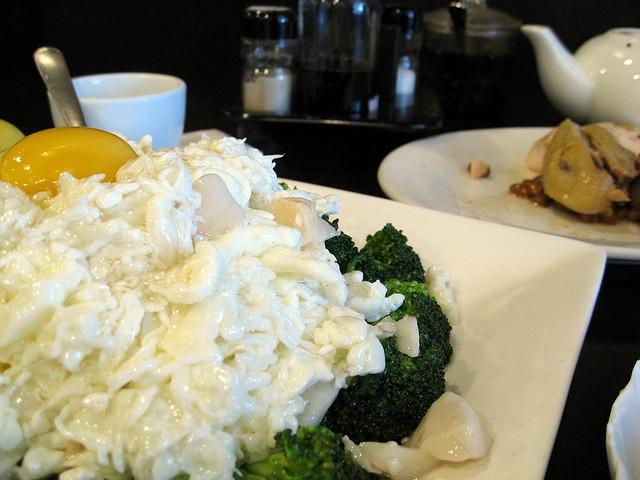broccoli: (319, 323, 446, 446), (234, 424, 388, 480), (346, 222, 426, 284), (321, 214, 358, 274), (382, 279, 428, 318), (278, 182, 292, 191)
